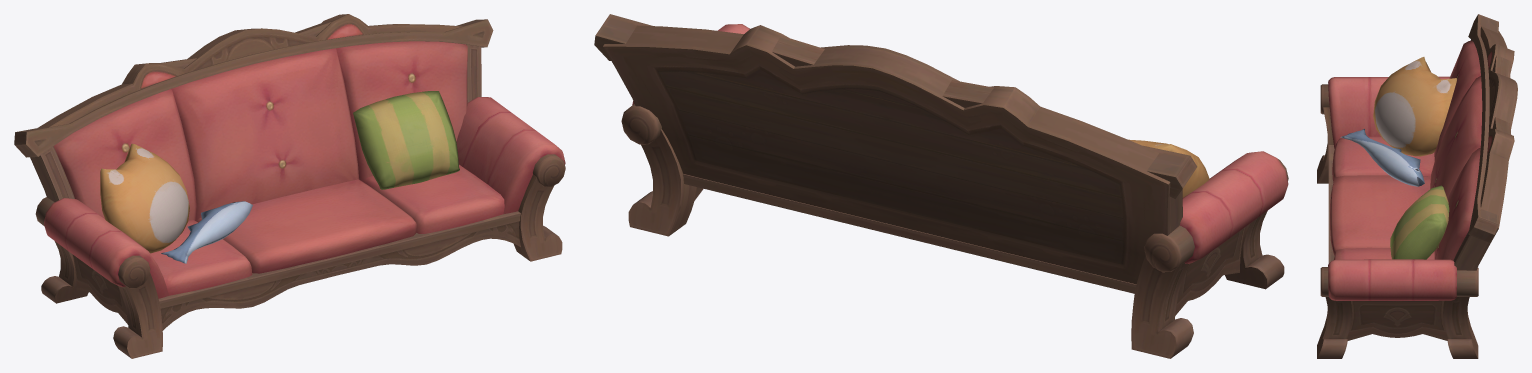
The model's file is Homeworld_Interior_Md_Chair_Prop_LeatherSofa_02_Vo.fbx.
The picture shows the model from 3 angles, left to right: view 1: azimuth 30°, elevation 25°; view 2: azimuth 150°, elevation 25°; view 3: azimuth 270°, elevation 25°; orthographic projection. The views are drawn at different scales.
Parts seen in each view (by area): view 1: Indoor_Md_Prop_Chair_Leatherchair_02_Vo; view 2: Indoor_Md_Prop_Chair_Leatherchair_02_Vo; view 3: Indoor_Md_Prop_Chair_Leatherchair_02_Vo.
Part boxes in pixels (left/top/right/bottom): Indoor_Md_Prop_Chair_Leatherchair_02_Vo: left=14, top=14, right=565, bottom=358; Indoor_Md_Prop_Chair_Leatherchair_02_Vo: left=594, top=14, right=1288, bottom=358; Indoor_Md_Prop_Chair_Leatherchair_02_Vo: left=1317, top=14, right=1517, bottom=358.
Size of the model in its own units: 3.85 by 1.59 by 1.59.
